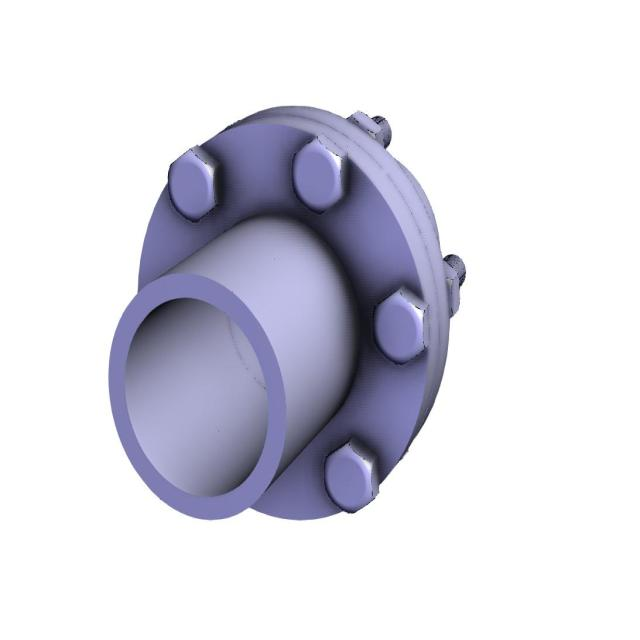bolt head: (289, 134, 350, 215), (371, 286, 429, 368), (167, 144, 223, 224), (324, 436, 379, 514)
